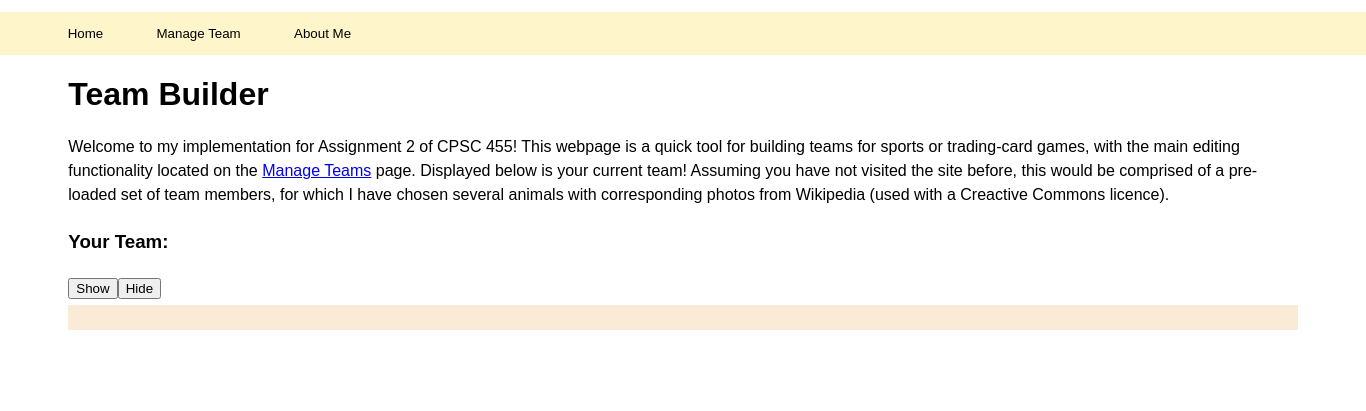
Test: Correctly displays no elements
Click the button "Show": click(93, 289) [68,278,118,299]
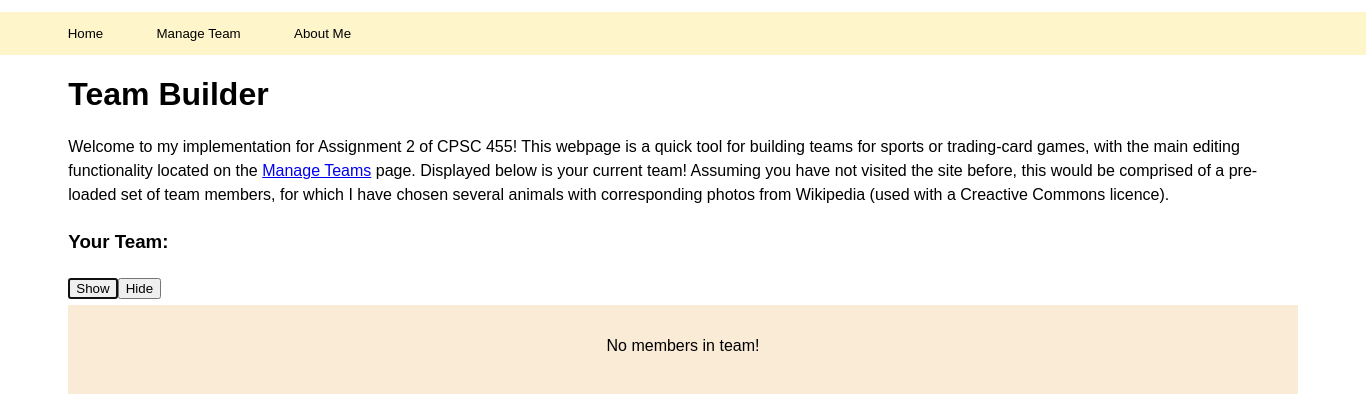
Result: the text "No members in team!" is shown at [606,334,759,358]
